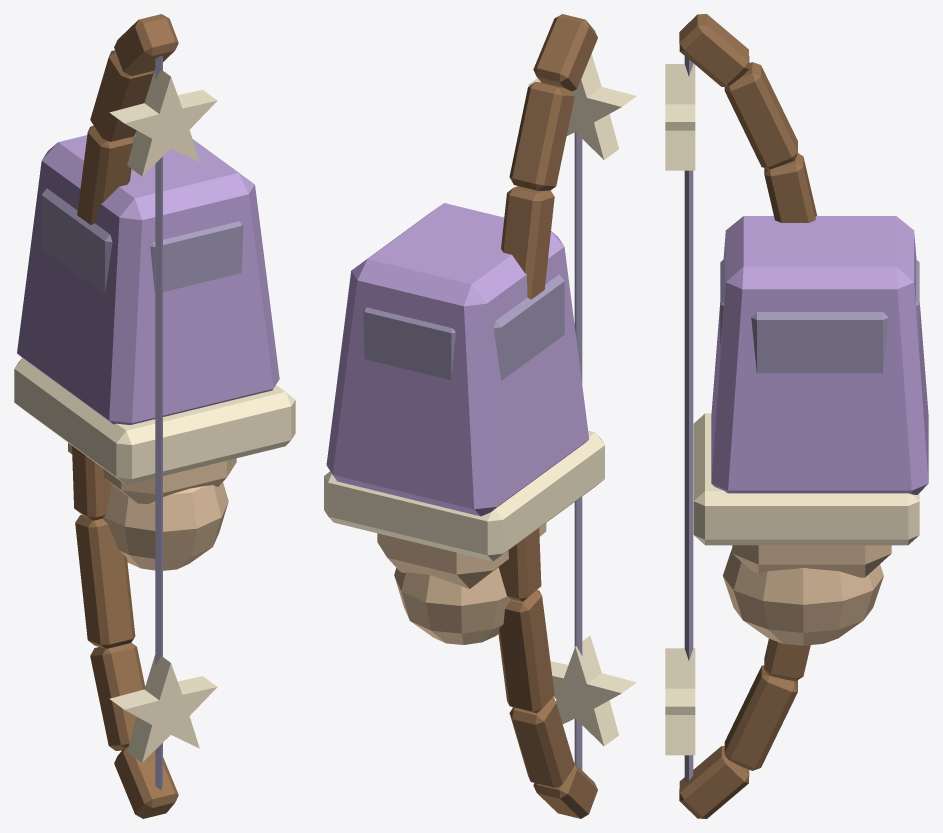
Rendered from Oracle_Archer_LeftArm.fbx.
The picture shows the model from 3 angles, left to right: view 1: azimuth 30°, elevation 25°; view 2: azimuth 150°, elevation 25°; view 3: azimuth 270°, elevation 25°; orthographic projection.
Visible parts, largest first — view 1: Oracle_Archer_LeftArm; view 2: Oracle_Archer_LeftArm; view 3: Oracle_Archer_LeftArm.
Boxes of the visible parts, left/top/right/bottom form: Oracle_Archer_LeftArm: left=14, top=14, right=295, bottom=818; Oracle_Archer_LeftArm: left=324, top=14, right=636, bottom=818; Oracle_Archer_LeftArm: left=665, top=14, right=928, bottom=818.
Bounding box in the file's own units: 33.08 × 132 × 39.58.
